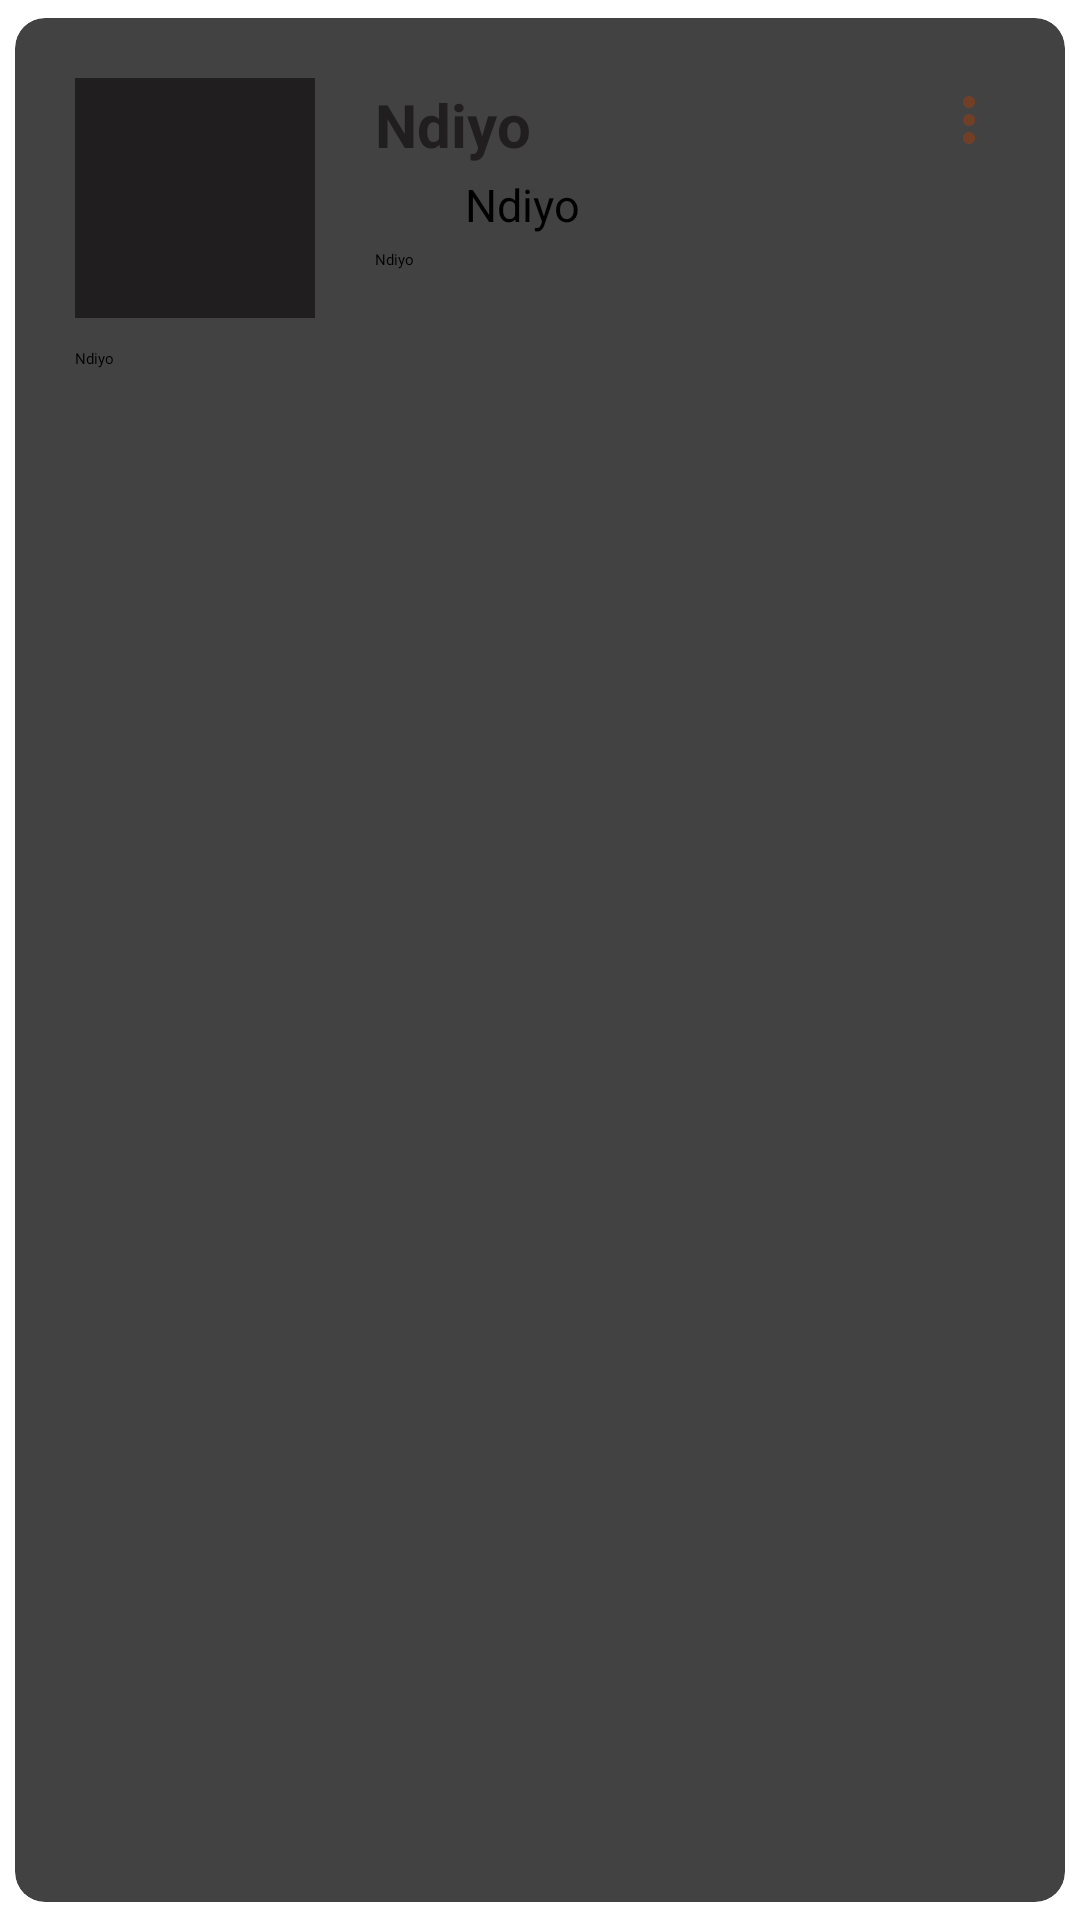

Where to tap for icons on this 1080 x 1920 app screen, as [x,y]:
more vert: [969,120]
